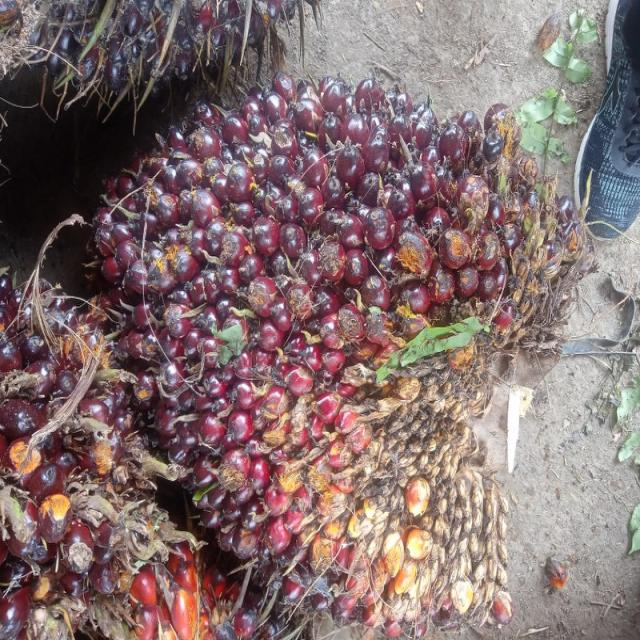fraksi 1: (92, 16, 614, 640)
